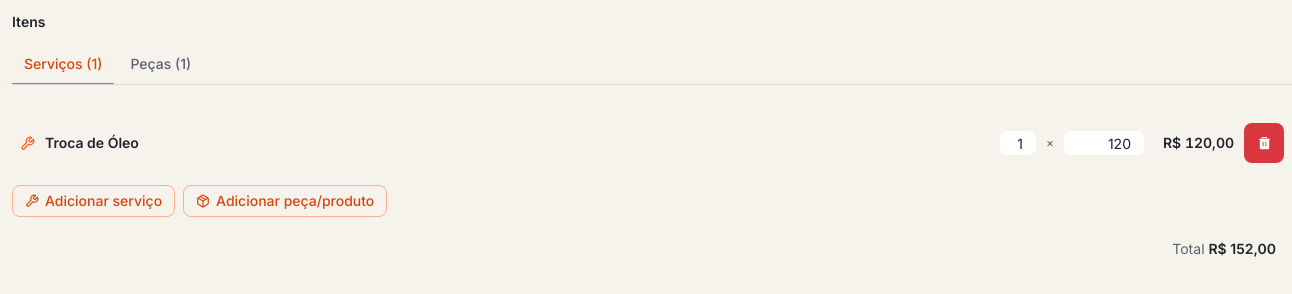
it: ItemsEditor › switching tabs shows each type in isolation
Expected: the text "Troca de Óleo" is shown, [45,134,139,151]
Expected: the text "Óleo Motor 10W30" is not shown
Step 1. Click the button "Peças (1)" → (161, 64), box [118,44,203,84]
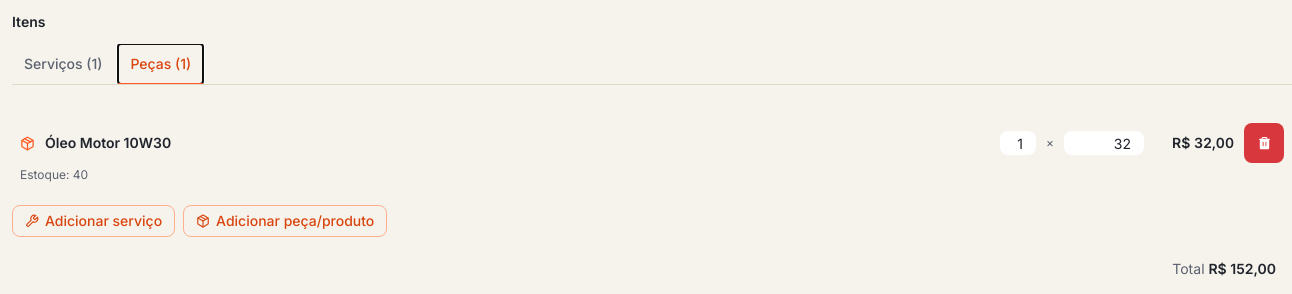
Now the text "Óleo Motor 10W30" is shown, box [45,134,171,151]
Now the text "Troca de Óleo" is gone
